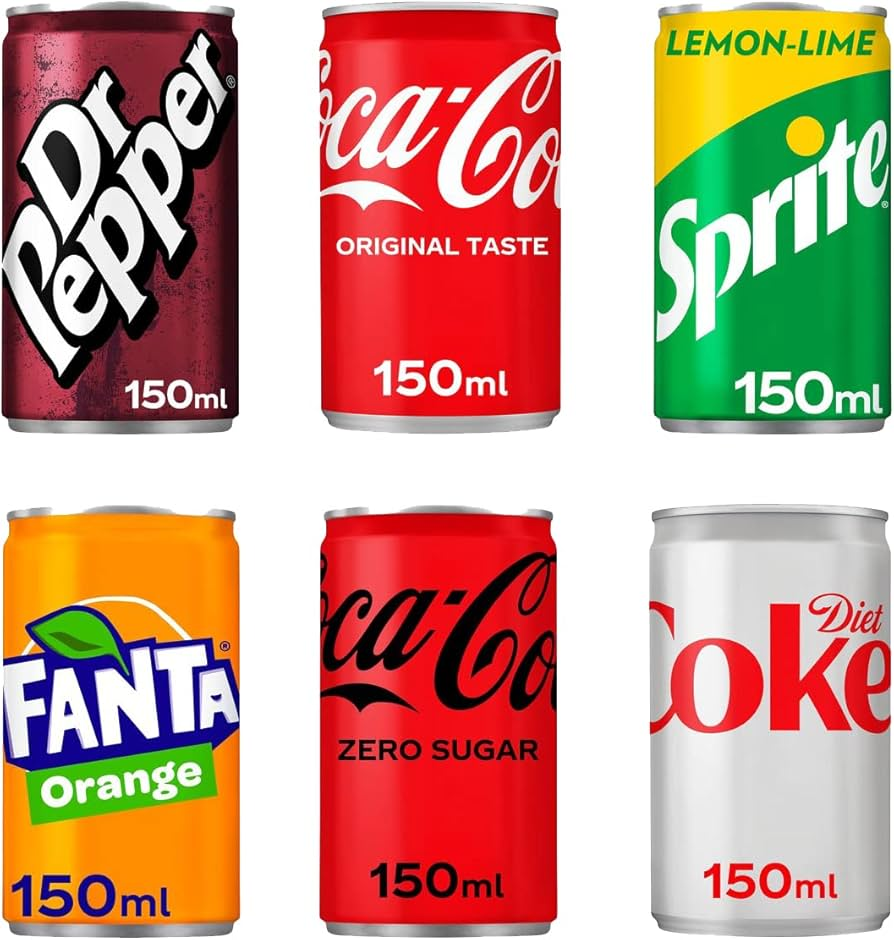can: (302, 1, 582, 440), (307, 494, 573, 940), (633, 496, 894, 940), (1, 1, 258, 447), (1, 499, 256, 940), (641, 1, 894, 442)
